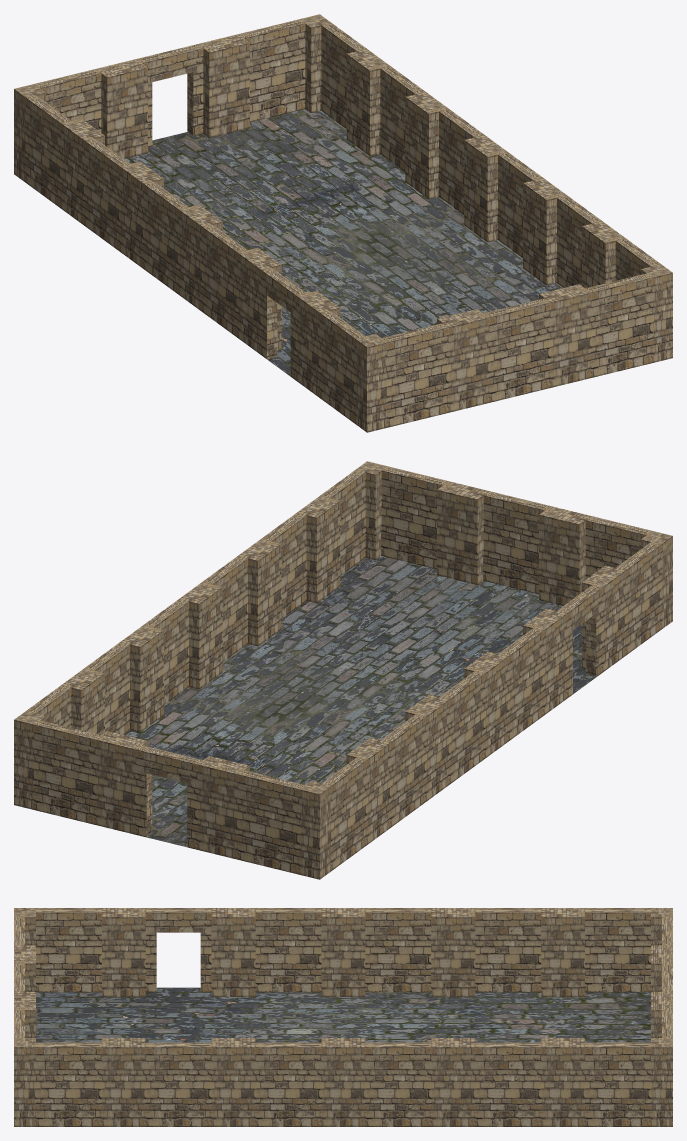
Rendered from twoWayJunc2.fbx.
3 renders of one model, top to bottom at view 1: azimuth 30°, elevation 25°; view 2: azimuth 150°, elevation 25°; view 3: azimuth 270°, elevation 25°, orthographic. The views are drawn at different scales.
Visible parts, largest first — view 1: Plane, Cube_10, Cube_7_2, Cube_9, Cube_8, Cube_25, Cube_27, Cube_17, Cube_7, Cube_30, Cube_6, Cube_23 (+26 smaller); view 2: Plane, Cube_26, Cube_8, Cube_10, Cube_9, Cube_17, Cube_7, Cube_27, Cube_25, Cube_3_2, Cube_1, Cube_14 (+26 smaller); view 3: Plane, Cube_1, Cube_16, Cube_29, Cube_15, Cube_14, Cube_11, Cube_6, Cube_31, Cube_23, Cube_4_2, Cube_6_2 (+19 smaller).
Boxes of the visible parts, x1=… form: Plane: x1=124, y1=109, x2=562, y2=376; Cube_10: x1=484, y1=298, x2=550, y2=402; Cube_7_2: x1=382, y1=323, x2=448, y2=427; Cube_9: x1=586, y1=273, x2=652, y2=377; Cube_8: x1=238, y1=19, x2=305, y2=122; Cube_25: x1=198, y1=34, x2=249, y2=137; Cube_27: x1=96, y1=59, x2=147, y2=158; Cube_17: x1=539, y1=284, x2=591, y2=387; Cube_7: x1=437, y1=309, x2=489, y2=412; Cube_30: x1=346, y1=48, x2=389, y2=156; Cube_6: x1=202, y1=224, x2=247, y2=337; Cube_23: x1=25, y1=95, x2=70, y2=208; Plane: x1=124, y1=556, x2=595, y2=847; Cube_26: x1=238, y1=770, x2=304, y2=874; Cube_8: x1=34, y1=720, x2=100, y2=824; Cube_10: x1=483, y1=491, x2=549, y2=593; Cube_9: x1=381, y1=466, x2=448, y2=569; Cube_17: x1=437, y1=481, x2=488, y2=584; Cube_7: x1=539, y1=506, x2=590, y2=605; Cube_27: x1=197, y1=756, x2=249, y2=859; Cube_25: x1=95, y1=731, x2=147, y2=834; Cube_3_2: x1=297, y1=495, x2=340, y2=603; Cube_1: x1=380, y1=714, x2=425, y2=827; Cube_14: x1=439, y1=671, x2=484, y2=784; Plane: x1=36, y1=987, x2=650, y2=1042; Cube_1: x1=475, y1=908, x2=541, y2=992; Cube_16: x1=145, y1=1042, x2=211, y2=1126; Cube_29: x1=475, y1=1042, x2=541, y2=1126; Cube_15: x1=365, y1=1042, x2=431, y2=1126; Cube_14: x1=365, y1=908, x2=431, y2=992; Cube_11: x1=255, y1=1042, x2=321, y2=1126; Cube_6: x1=255, y1=908, x2=321, y2=992; Cube_31: x1=585, y1=1042, x2=650, y2=1126; Cube_23: x1=585, y1=908, x2=650, y2=992; Cube_4_2: x1=36, y1=1042, x2=101, y2=1126; Cube_6_2: x1=36, y1=908, x2=101, y2=992.
Bounding box in the file's own units: 30 × 8 × 60.
Materials: 2 (2 with a texture image).
